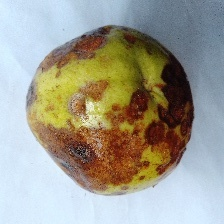guava: (43, 24, 183, 189)
